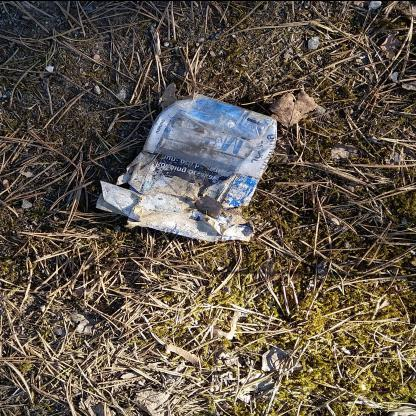karton: (95, 95, 281, 243)
